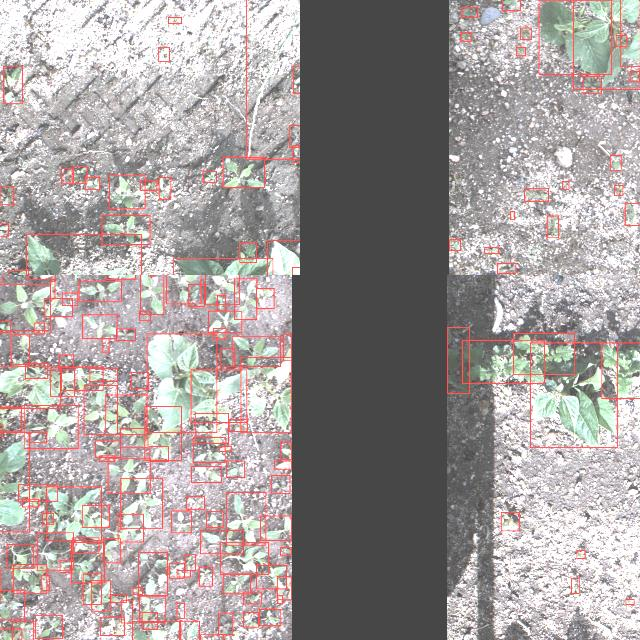crop: (530, 342, 616, 448), (147, 334, 217, 432), (572, 0, 639, 89), (538, 0, 612, 74), (25, 234, 140, 275), (240, 357, 292, 433), (191, 370, 247, 422), (0, 366, 60, 408), (173, 258, 273, 275), (267, 240, 300, 275)
weed: (246, 0, 300, 158), (462, 341, 544, 384), (46, 487, 102, 541), (0, 432, 28, 532), (514, 334, 574, 374), (0, 284, 50, 330), (24, 406, 78, 448), (226, 492, 266, 546), (602, 343, 640, 399), (121, 478, 163, 528), (144, 406, 182, 460), (83, 386, 117, 434), (106, 395, 146, 435), (221, 542, 269, 574), (108, 458, 150, 494), (447, 327, 469, 393), (233, 336, 281, 366), (37, 532, 73, 570), (70, 543, 104, 583), (102, 216, 150, 244), (138, 552, 168, 596), (223, 157, 265, 187), (109, 175, 145, 209), (200, 530, 243, 554), (195, 413, 229, 443), (13, 564, 47, 594), (166, 275, 201, 304), (205, 275, 240, 304), (235, 278, 258, 320), (140, 275, 164, 314), (61, 368, 103, 390), (133, 621, 181, 640), (78, 281, 122, 301), (82, 314, 118, 338), (193, 438, 225, 462), (260, 516, 292, 540), (2, 66, 22, 104), (118, 514, 144, 542), (257, 565, 287, 589), (0, 590, 24, 619), (18, 484, 56, 502), (208, 312, 242, 332), (139, 596, 165, 622), (6, 544, 34, 568), (50, 370, 74, 396), (36, 615, 62, 639), (10, 335, 30, 365), (82, 505, 108, 527), (82, 574, 101, 604), (120, 428, 148, 448), (223, 574, 251, 594), (92, 581, 110, 611), (0, 406, 21, 431), (44, 298, 72, 316), (191, 466, 221, 482), (100, 616, 124, 636), (172, 511, 192, 533), (96, 440, 120, 458), (103, 539, 121, 563), (12, 621, 33, 640), (259, 608, 281, 626), (89, 368, 117, 382), (276, 576, 292, 600), (179, 621, 199, 640), (72, 538, 98, 552), (582, 76, 602, 94), (256, 288, 274, 308), (501, 512, 519, 532), (188, 284, 204, 306), (218, 613, 234, 635), (524, 188, 548, 202), (24, 364, 48, 378), (625, 203, 640, 225), (227, 460, 245, 478), (272, 475, 290, 493), (240, 243, 256, 263), (150, 446, 168, 462), (131, 372, 149, 388), (142, 612, 158, 630), (206, 511, 224, 527), (199, 566, 213, 586), (159, 177, 171, 199), (546, 216, 558, 238), (73, 166, 87, 184), (220, 348, 234, 366), (0, 628, 21, 640), (121, 600, 132, 622), (116, 329, 136, 341), (0, 187, 13, 205), (186, 496, 204, 509), (244, 612, 258, 628), (290, 125, 300, 147), (284, 334, 292, 361), (229, 419, 247, 431), (280, 442, 292, 460), (244, 592, 262, 604), (496, 263, 516, 273), (502, 0, 520, 11), (62, 292, 76, 306), (59, 354, 73, 368), (170, 564, 184, 578), (184, 554, 196, 570), (85, 177, 99, 190), (29, 432, 46, 442), (294, 66, 300, 94), (158, 47, 170, 61), (141, 181, 157, 191), (61, 168, 71, 184), (461, 7, 477, 17), (217, 295, 226, 311), (274, 461, 292, 469), (60, 560, 72, 572), (203, 172, 217, 182), (611, 156, 621, 170), (200, 634, 223, 640), (214, 328, 226, 339), (22, 499, 38, 507), (111, 594, 127, 602), (571, 578, 579, 594), (520, 28, 530, 40), (106, 275, 136, 279), (42, 514, 54, 524), (293, 145, 300, 162), (27, 275, 55, 279), (41, 576, 49, 590), (177, 604, 185, 618), (177, 570, 191, 578), (448, 240, 459, 250), (0, 321, 10, 332), (34, 322, 44, 333), (8, 270, 28, 275), (461, 32, 471, 42), (515, 46, 525, 56), (616, 36, 626, 46), (630, 72, 640, 82), (0, 224, 8, 236), (280, 547, 292, 555), (140, 312, 150, 321), (168, 17, 182, 23), (484, 247, 498, 253), (102, 338, 108, 352), (100, 456, 114, 462), (614, 185, 622, 195), (50, 281, 54, 299), (220, 446, 232, 452), (577, 550, 585, 558), (132, 588, 142, 594), (562, 181, 568, 189), (510, 212, 514, 220), (278, 596, 282, 604), (626, 600, 634, 604), (0, 425, 2, 437)
